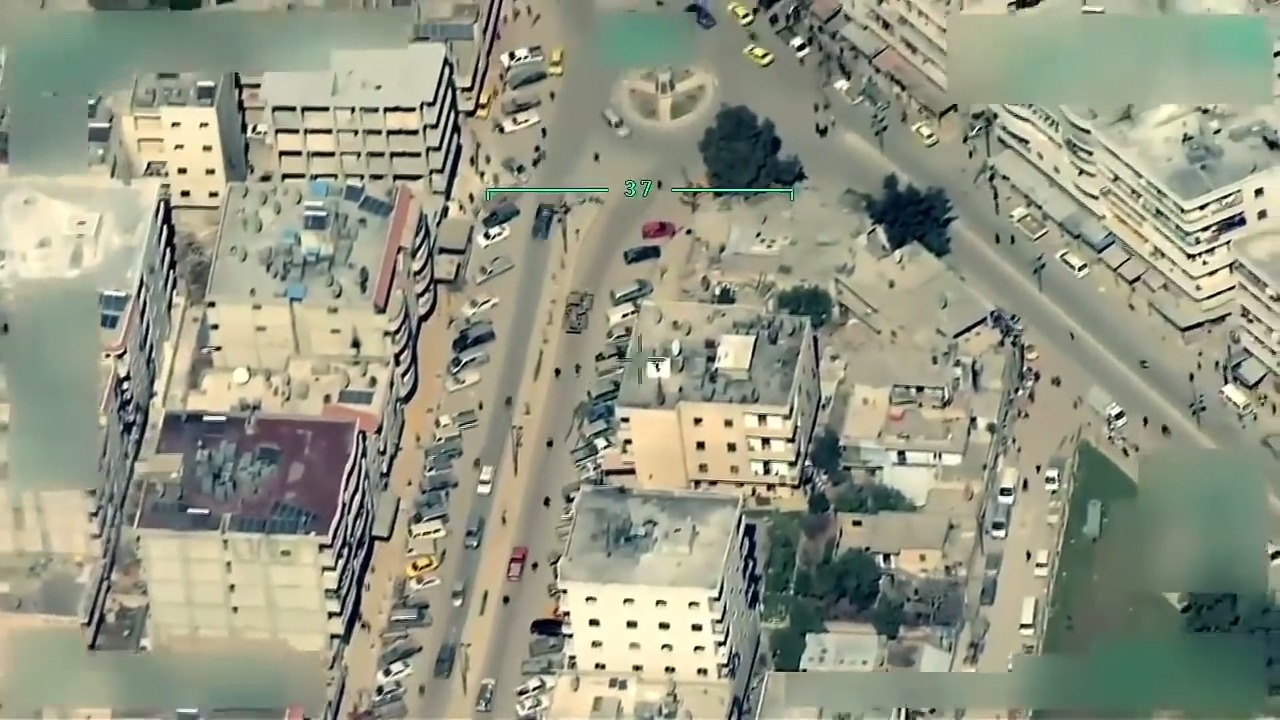arac: (1083, 377, 1142, 426), (1215, 375, 1262, 430), (1004, 196, 1050, 247), (773, 19, 821, 59), (472, 244, 521, 283), (478, 195, 537, 227), (619, 236, 676, 269), (990, 460, 1030, 503), (383, 602, 439, 632), (501, 38, 544, 77), (982, 498, 1025, 537), (497, 145, 538, 185), (468, 671, 502, 719), (489, 89, 548, 116), (433, 404, 484, 435), (610, 273, 654, 308), (498, 108, 550, 137), (476, 220, 524, 251), (404, 545, 447, 579), (636, 210, 679, 244), (454, 315, 497, 348), (445, 365, 488, 397), (1056, 248, 1094, 284), (378, 654, 432, 679), (502, 543, 538, 579), (516, 689, 559, 719), (402, 516, 453, 541), (1025, 544, 1061, 579), (447, 345, 502, 367), (736, 42, 780, 69), (460, 286, 500, 315), (513, 671, 559, 695), (459, 514, 489, 550), (908, 118, 944, 148), (1019, 580, 1037, 637), (547, 38, 569, 80), (725, 1, 762, 25), (476, 460, 498, 497), (606, 298, 641, 321), (248, 115, 274, 144)
bina: (127, 404, 386, 648), (197, 151, 443, 371), (1, 133, 180, 406), (610, 295, 838, 484), (563, 482, 768, 691), (266, 18, 479, 209), (119, 41, 245, 207)
